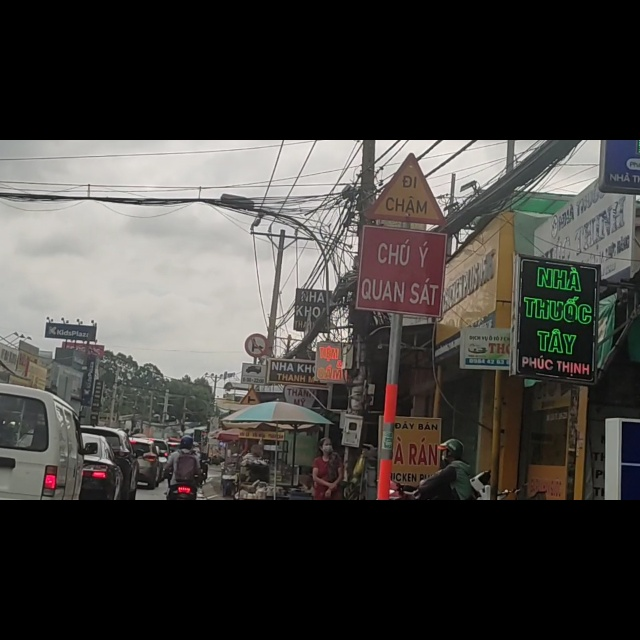bien_cam: (366, 25, 451, 155), (245, 341, 273, 392), (241, 435, 262, 473), (242, 399, 265, 433)
